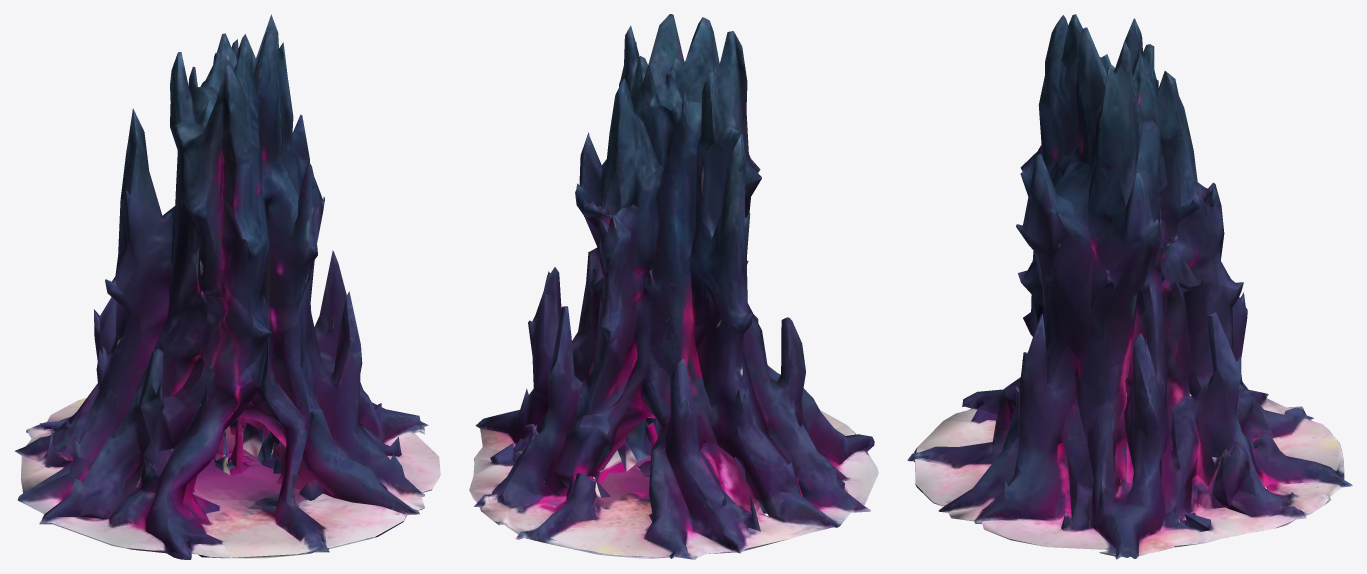
The model's file is yggdrasil-root-southeast.collider.glb.
3 views of the same model, side by side, from view 1: azimuth 30°, elevation 25°; view 2: azimuth 150°, elevation 25°; view 3: azimuth 270°, elevation 25° (orthographic). The views are drawn at different scales.
Parts seen in each view (by area): view 1: temp_mesh.ply; view 2: temp_mesh.ply; view 3: temp_mesh.ply.
Part boxes in pixels (x1,y1,x2,y2): temp_mesh.ply: [15, 14, 440, 559]; temp_mesh.ply: [469, 14, 878, 559]; temp_mesh.ply: [907, 14, 1352, 559].
Size of the model in its own units: 1.8 by 1.97 by 1.77.
Materials: 1 (1 with a texture image).
